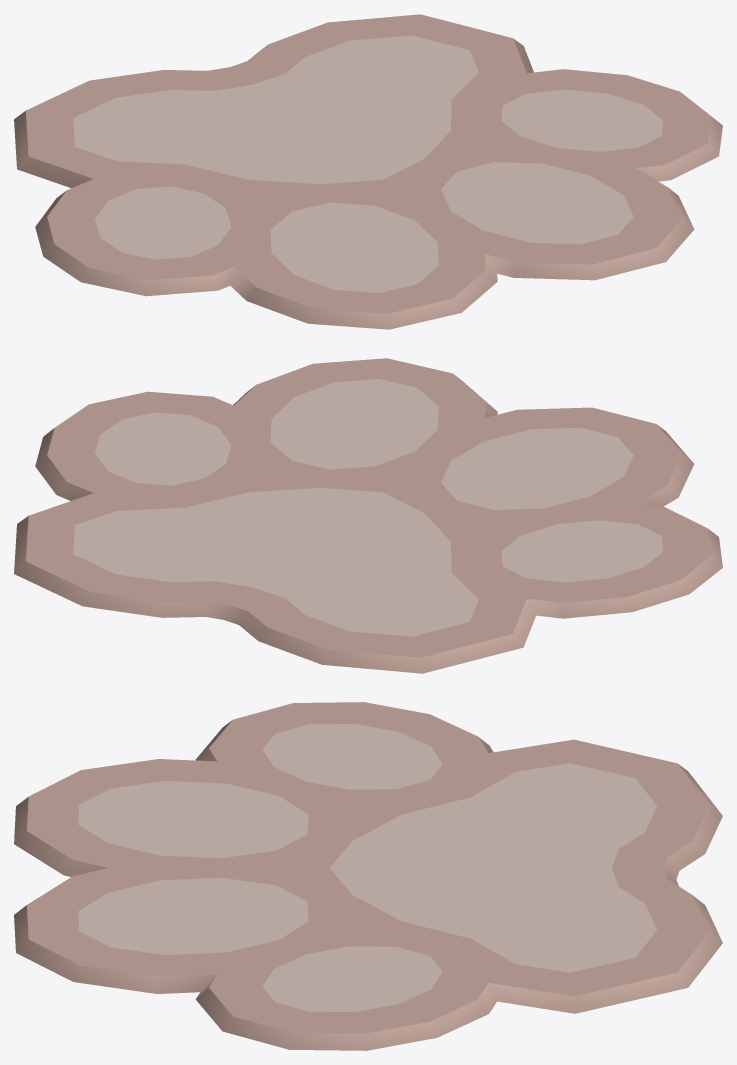
File: carpet-pet-paw.glb
3 views of the same model, one above another, from view 1: azimuth 30°, elevation 25°; view 2: azimuth 150°, elevation 25°; view 3: azimuth 270°, elevation 25° (orthographic). The views are drawn at different scales.
Visible parts, largest first — view 1: carpet-pet-paw; view 2: carpet-pet-paw; view 3: carpet-pet-paw.
Boxes of the visible parts, <box> form: carpet-pet-paw: <box>14,14,722,329</box>; carpet-pet-paw: <box>14,358,722,673</box>; carpet-pet-paw: <box>14,702,722,1050</box>.
Size of the model in its own units: 1.59 by 0.025 by 1.39.
